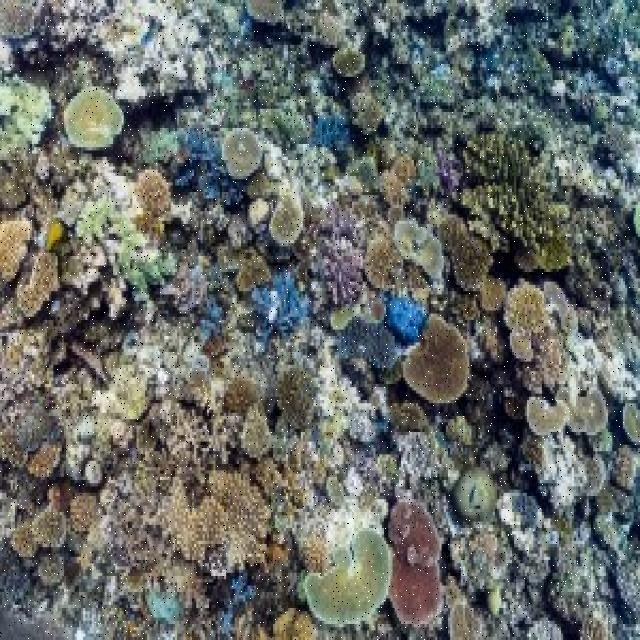Bleached: (97, 1, 211, 92), (261, 139, 346, 215), (320, 471, 387, 548), (498, 491, 554, 554), (570, 352, 638, 394), (529, 448, 582, 498), (334, 385, 377, 430), (111, 75, 152, 108)
Healthy: (1, 204, 70, 610), (317, 209, 500, 323), (463, 132, 576, 255), (157, 456, 265, 578), (333, 291, 470, 384), (162, 364, 270, 462), (149, 124, 236, 219), (229, 264, 311, 355), (308, 531, 389, 620), (508, 280, 565, 391), (387, 514, 446, 618), (305, 100, 366, 170), (278, 370, 321, 435)
